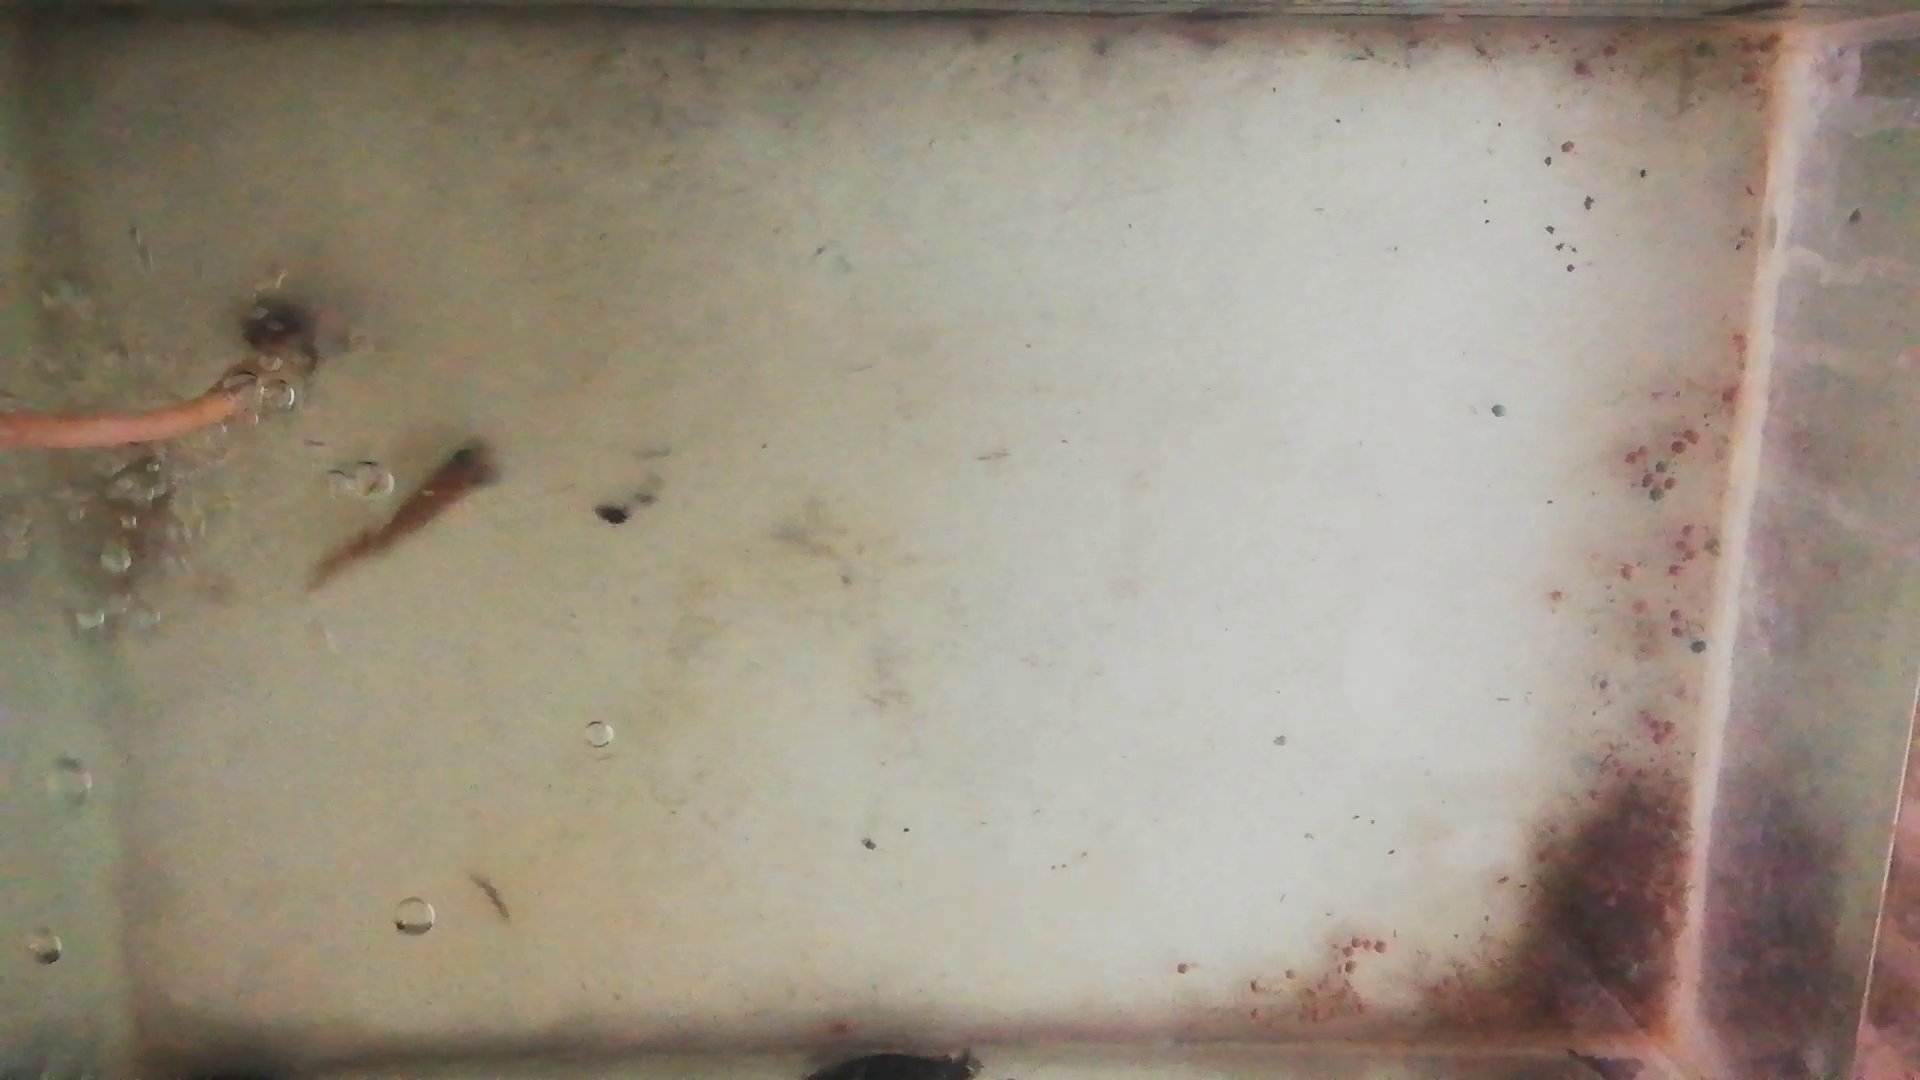fish: (298, 442, 508, 597), (91, 448, 164, 633)
